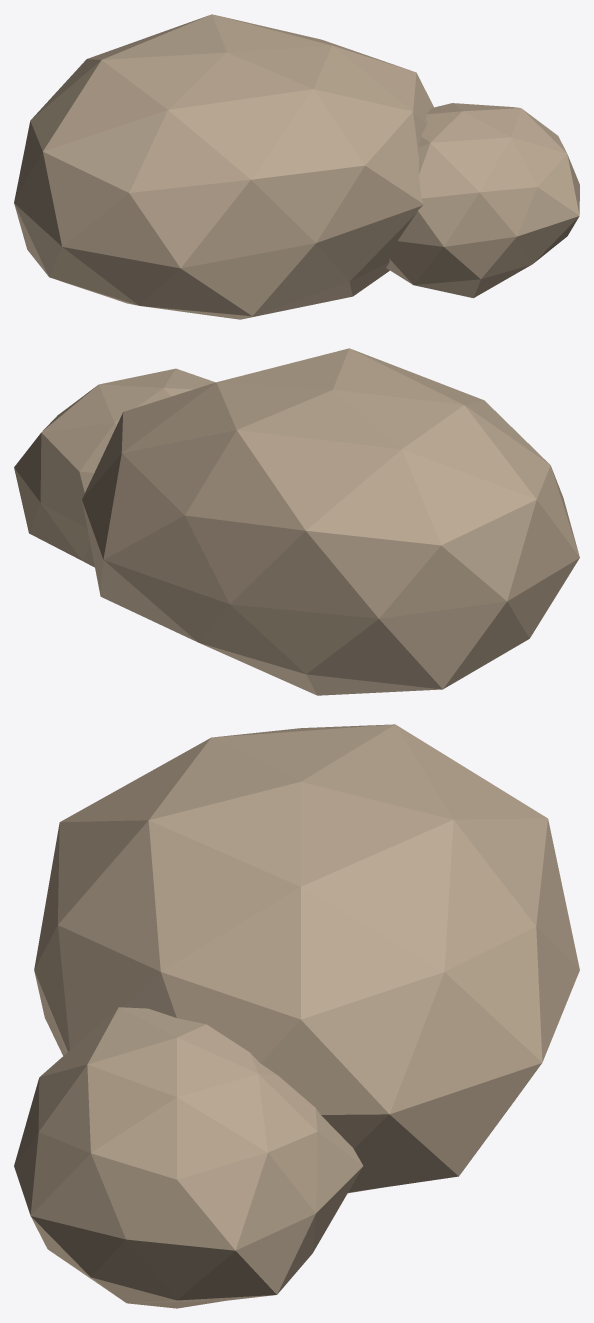
File: rock.glb
The picture shows the model from 3 angles, top to bottom: view 1: azimuth 30°, elevation 25°; view 2: azimuth 150°, elevation 25°; view 3: azimuth 270°, elevation 25°; orthographic projection. The views are drawn at different scales.
Visible parts, largest first — view 1: forest-rock; view 2: forest-rock; view 3: forest-rock.
Boxes of the visible parts, left/top/right/bottom form: forest-rock: left=14, top=14, right=579, bottom=319; forest-rock: left=14, top=348, right=579, bottom=695; forest-rock: left=14, top=724, right=579, bottom=1308.
Size of the model in its own units: 0.7399 by 0.3652 by 0.48.
